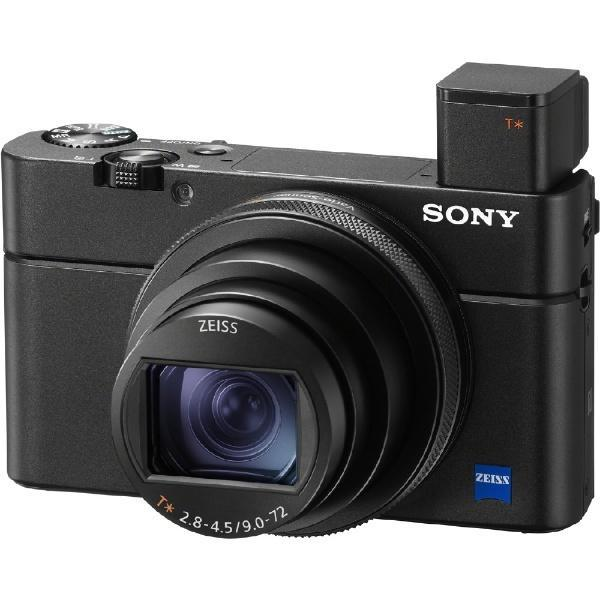degital-camera: (0, 50, 600, 549)
